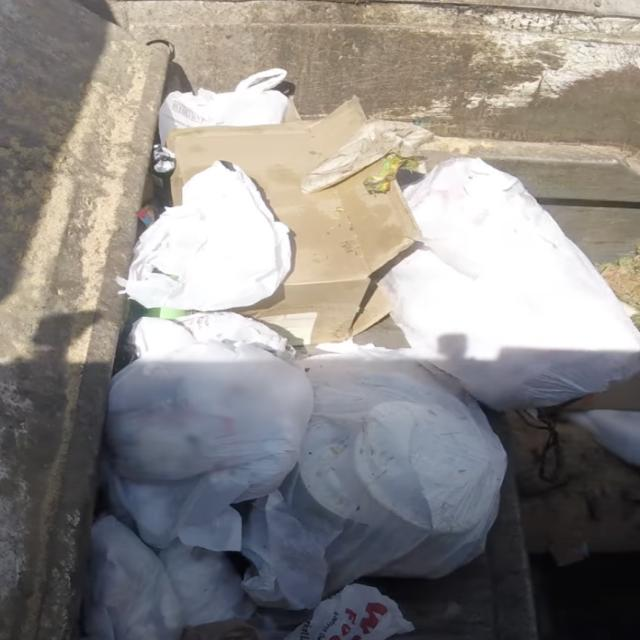bag: (405, 162, 640, 405), (116, 309, 302, 501), (294, 334, 502, 505), (136, 170, 299, 316), (162, 82, 301, 124)
cardboard: (162, 118, 433, 343)
